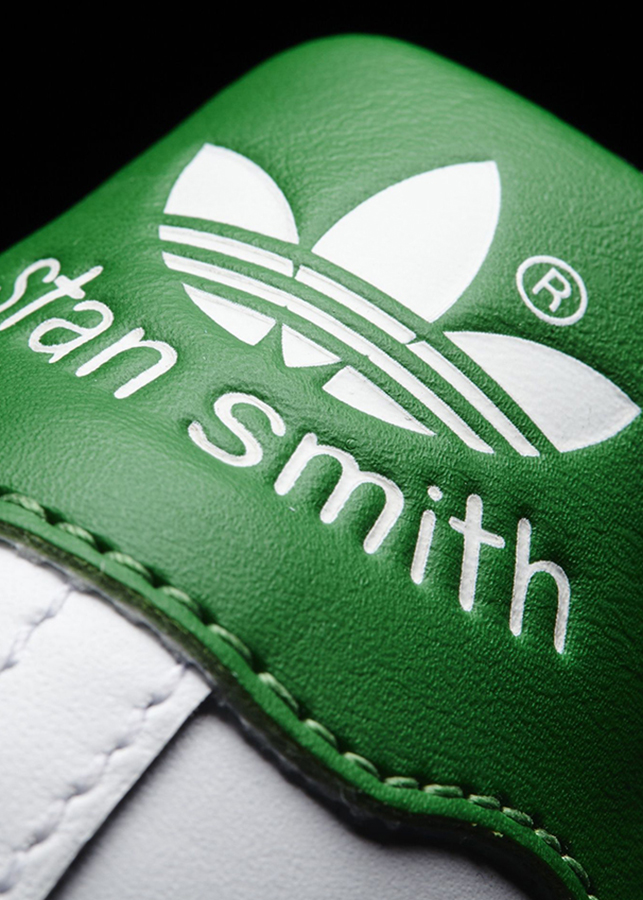Adidas: (151, 131, 643, 466)
